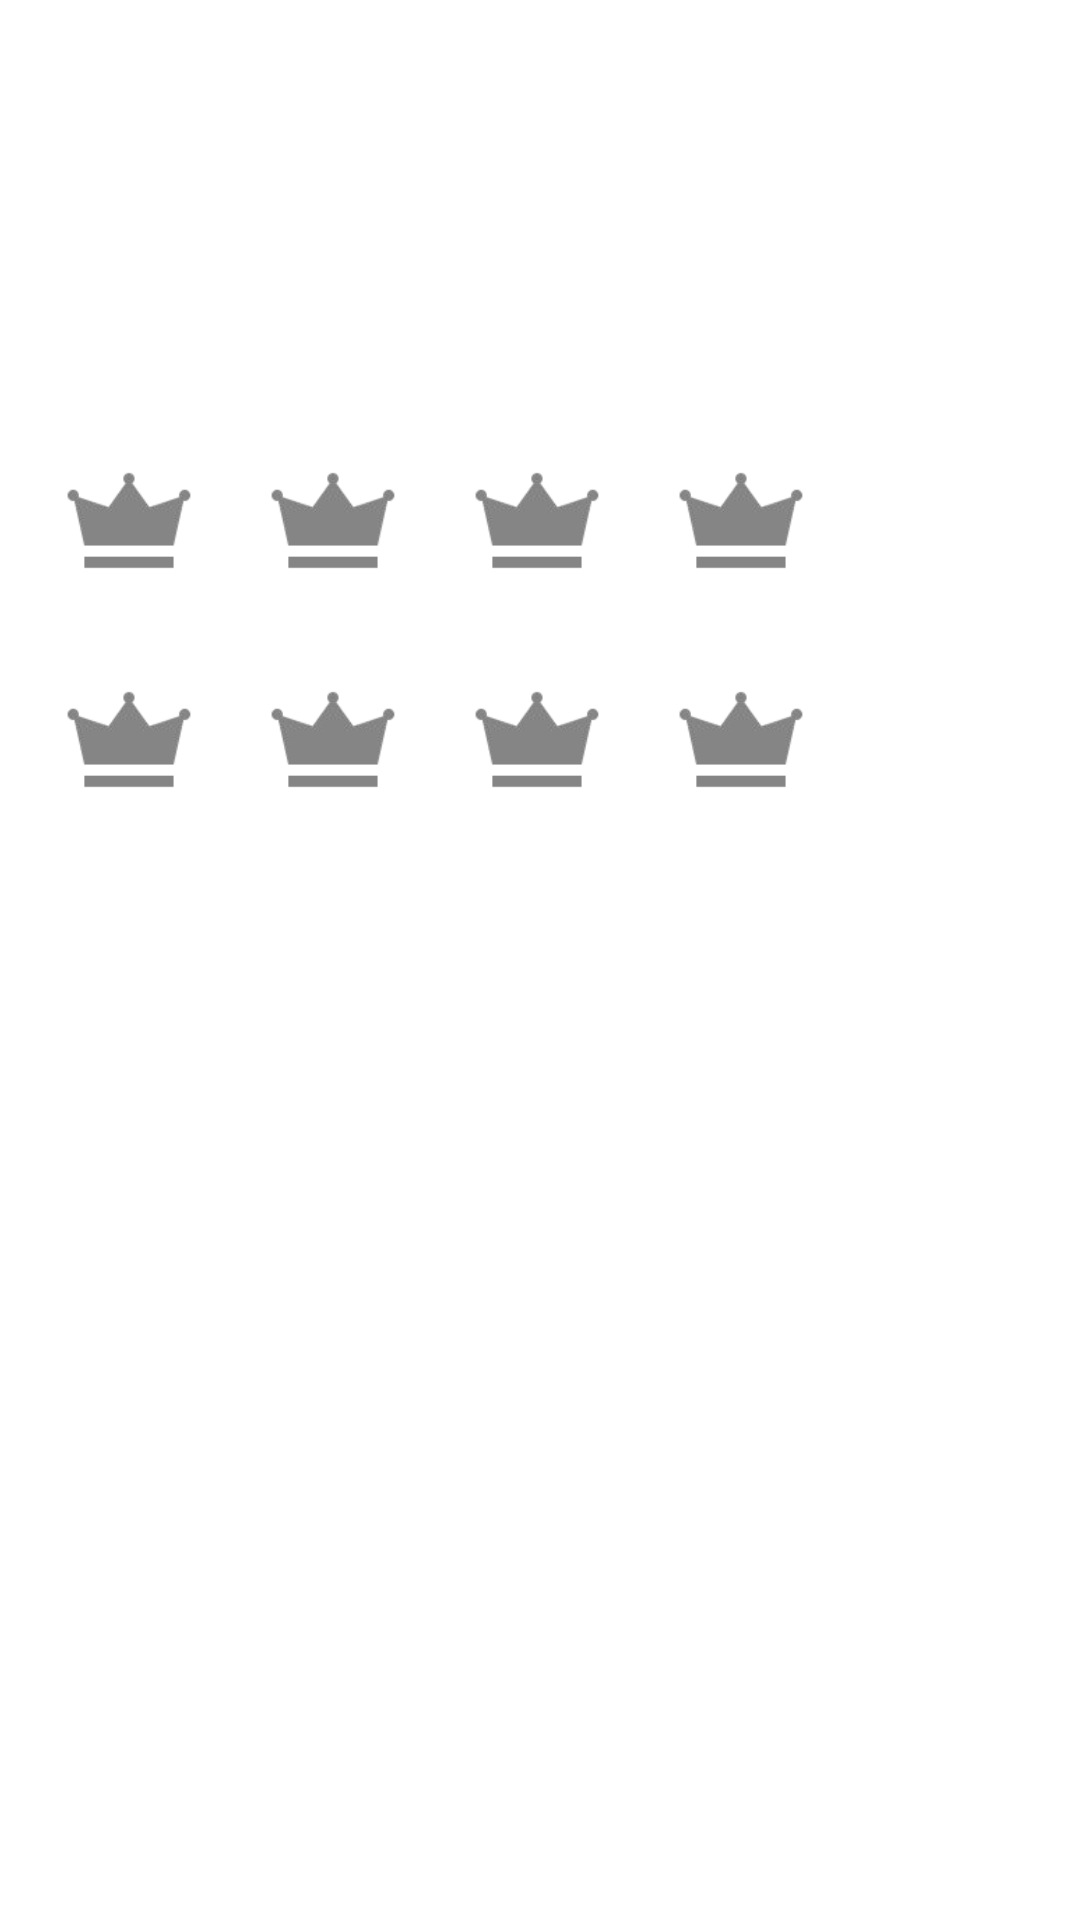

Point at icon controls on the screen. Image size 1080 × 1920, points as (x,y).
coraoff: (129,520), (333,520), (537,520), (741,520), (129,739), (333,739), (537,739), (741,739)
